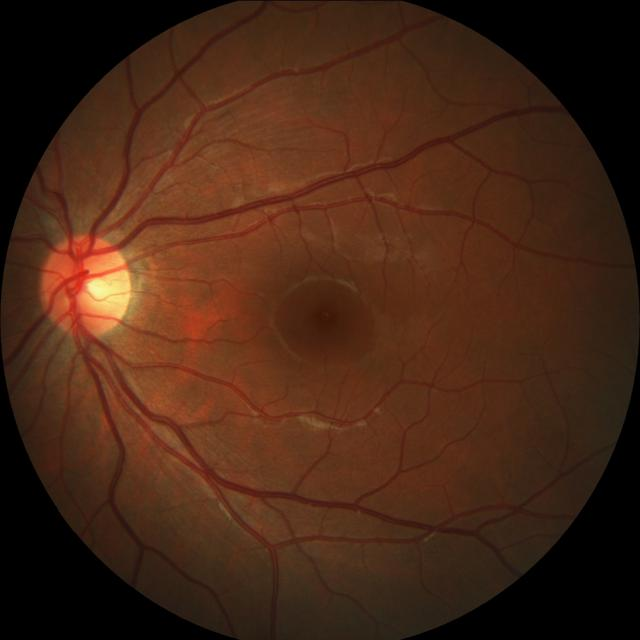OC: (70, 269, 108, 306)
OD: (43, 234, 134, 336)
